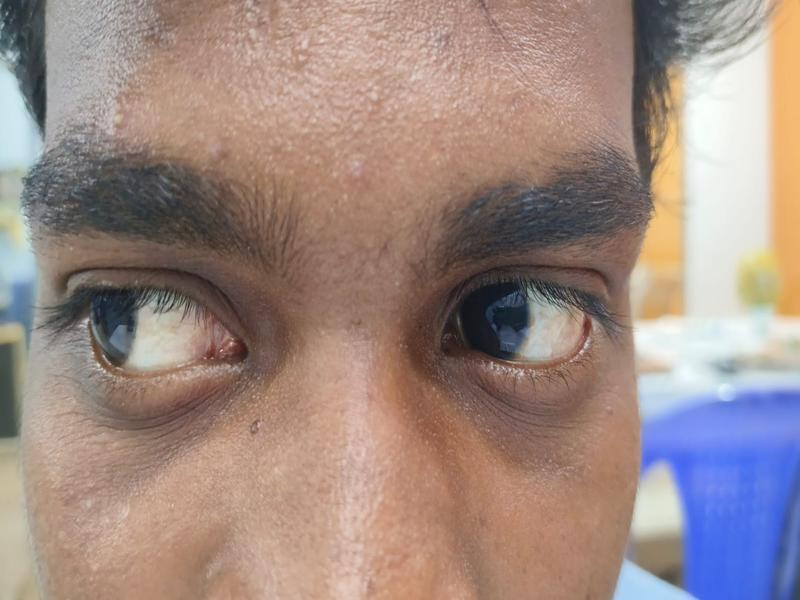EYE RIGHT: (82, 289, 231, 370), (459, 287, 599, 366)
